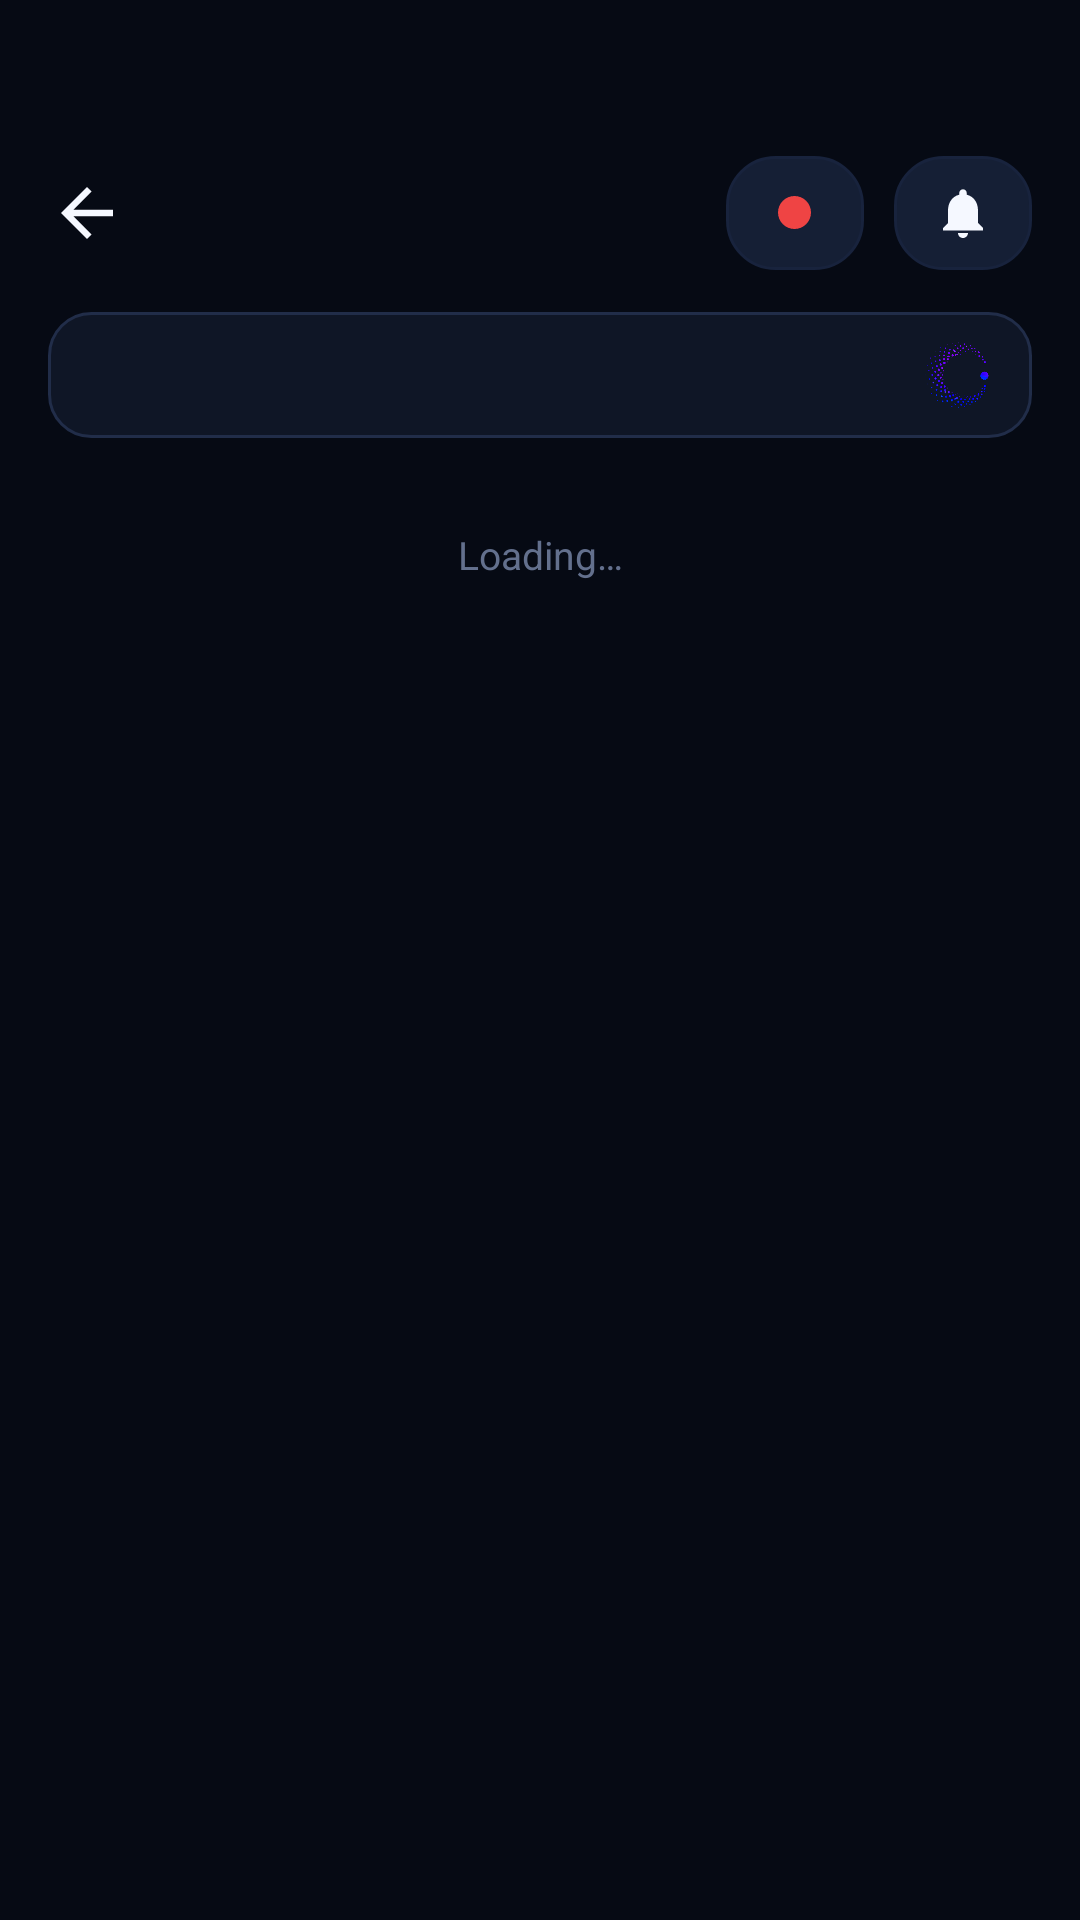

Named icons in this screenshot (1080px×1920px) and their bounding boxes, (x1, y1, x2, y2):
bell: (943, 189, 983, 238)
